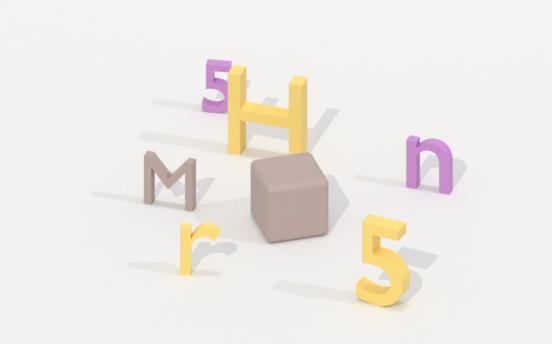5: (352, 211, 414, 312), (196, 60, 238, 112)
H-hoa: (225, 65, 312, 158)
M-hoa: (139, 147, 200, 211)
R: (176, 221, 226, 278)
hop: (241, 153, 333, 243)
n: (401, 133, 460, 195)
